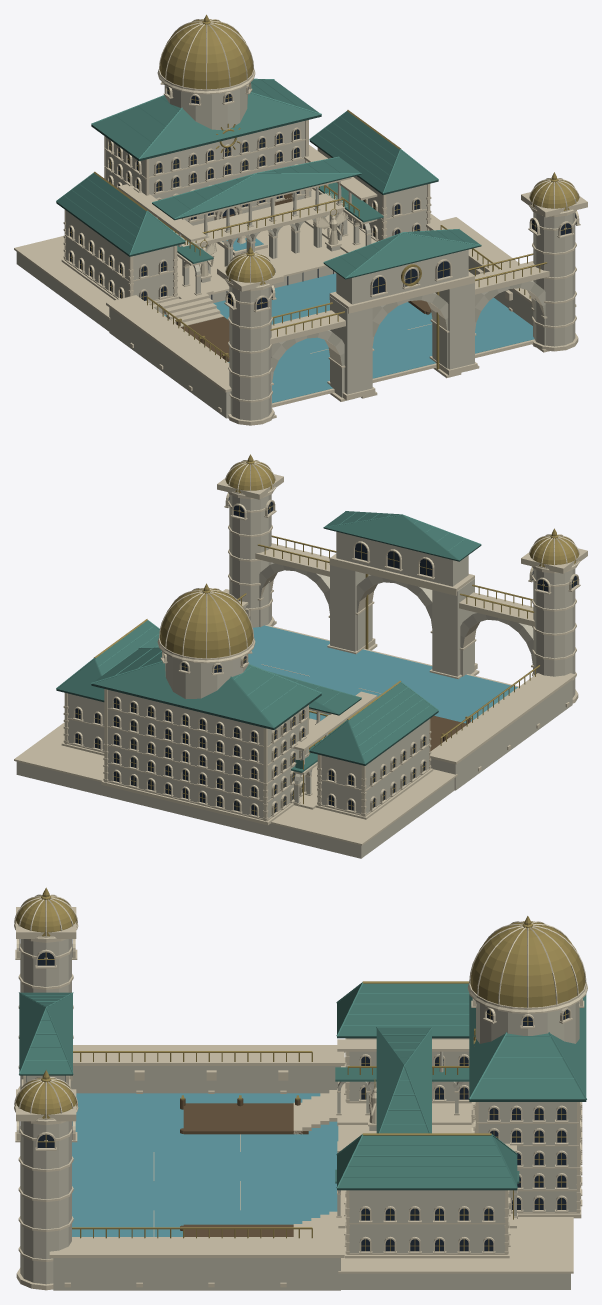
File: tide-palace.glb
The picture shows the model from 3 angles, top to bottom: view 1: azimuth 30°, elevation 25°; view 2: azimuth 150°, elevation 25°; view 3: azimuth 270°, elevation 25°; orthographic projection. The views are drawn at different scales.
Visible parts, largest first — view 1: walled-basin, chancery-loggia-roof, sea-gate, chancery-loggia, sea-gate-roof, mooring-court; view 2: chancery-loggia, walled-basin, sea-gate, chancery-loggia-roof, sea-gate-roof; view 3: walled-basin, chancery-loggia-roof, chancery-loggia, sea-gate, sea-gate-roof.
Part boxes in pixels (x1,y1,x2,y2): walled-basin: (14, 188, 576, 418); chancery-loggia-roof: (56, 14, 438, 263); sea-gate: (217, 192, 587, 425); chancery-loggia: (61, 82, 431, 305); sea-gate-roof: (225, 172, 579, 288); mooring-court: (175, 123, 346, 356); chancery-loggia: (61, 651, 433, 825); walled-basin: (14, 589, 576, 858); sea-gate: (217, 474, 587, 703); chancery-loggia-roof: (56, 583, 438, 772); sea-gate-roof: (225, 454, 579, 570); walled-basin: (49, 1045, 573, 1290); chancery-loggia-roof: (335, 916, 587, 1190); chancery-loggia: (336, 998, 584, 1258); sea-gate: (15, 907, 77, 1290); sea-gate-roof: (14, 887, 78, 1121).
Size of the model in its own units: 34.6 by 20.94 by 39.92.
